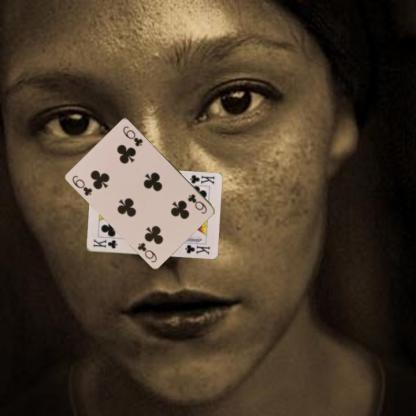6c: (70, 173, 94, 197), (186, 191, 208, 215)
Kc: (91, 236, 118, 250), (187, 173, 216, 185)
